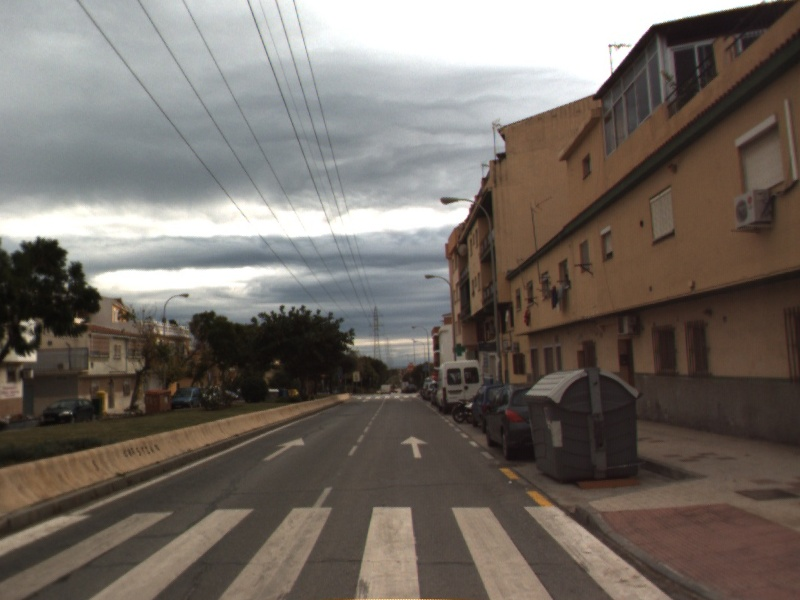STRAIGHT: (261, 435, 307, 463), (398, 434, 431, 460)
